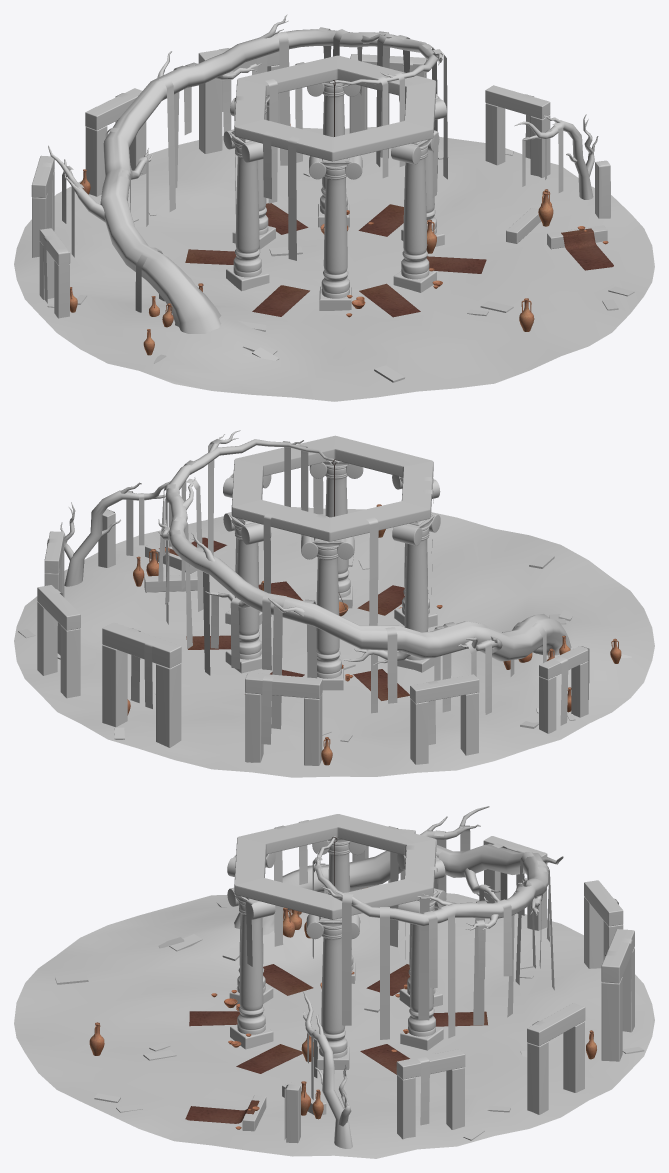
The picture shows the model from 3 angles, top to bottom: view 1: azimuth 30°, elevation 25°; view 2: azimuth 150°, elevation 25°; view 3: azimuth 270°, elevation 25°; orthographic projection.
Parts seen in each view (by area): view 1: floorplane, polySurface101, pTorus1, column5, column3, column4, arch13, arch11, arch12, column6, polySurface32, arch9 (+21 smaller); view 2: floorplane, polySurface101, pTorus1, arch12, arch11, arch5, column2, column3, column6, arch9, polySurface32, column4 (+26 smaller); view 3: floorplane, pTorus1, polySurface101, arch5, column4, arch12, column1, arch13, arch11, column6, polySurface32, column3 (+20 smaller).
Part boxes in pixels (box(x1,y1,x2,y2)): floorplane: box(14, 127, 654, 401); polySurface101: box(48, 14, 442, 333); pTorus1: box(234, 55, 436, 161); column5: box(309, 155, 362, 310); column3: box(223, 129, 269, 291); column4: box(391, 135, 439, 292); arch13: box(485, 85, 550, 177); arch11: box(85, 88, 146, 196); arch12: box(198, 48, 279, 153); column6: box(307, 80, 360, 227); polySurface32: box(514, 114, 598, 199); arch9: box(39, 228, 70, 318); floorplane: box(14, 507, 654, 777); polySurface101: box(158, 430, 571, 665); pTorus1: box(231, 435, 433, 541); arch12: box(102, 622, 181, 747); arch11: box(245, 672, 322, 765); arch5: box(37, 585, 80, 698); column2: box(301, 535, 354, 690); column3: box(392, 512, 440, 672); column6: box(223, 512, 271, 673); arch9: box(539, 646, 588, 733); polySurface32: box(60, 481, 170, 586); column4: box(309, 460, 363, 608); floorplane: box(14, 885, 654, 1158); pTorus1: box(234, 814, 436, 919); polySurface101: box(234, 806, 563, 988); arch5: box(527, 1003, 585, 1114); column4: box(227, 887, 275, 1049); arch12: box(601, 929, 634, 1061); column1: box(306, 914, 360, 1069); arch13: box(396, 1049, 465, 1139); arch11: box(584, 880, 623, 968); column6: box(398, 888, 446, 1050); polySurface32: box(303, 992, 352, 1148); column3: box(312, 838, 365, 983).
Size of the model in its own units: 1373 by 460 by 1373.
